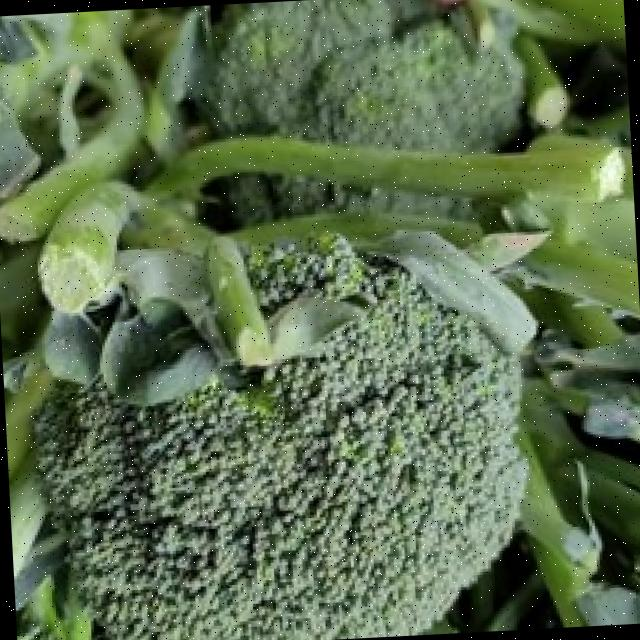Broccoli: (36, 244, 526, 640), (206, 0, 522, 150), (207, 0, 521, 150), (211, 176, 452, 226), (213, 176, 364, 224)
